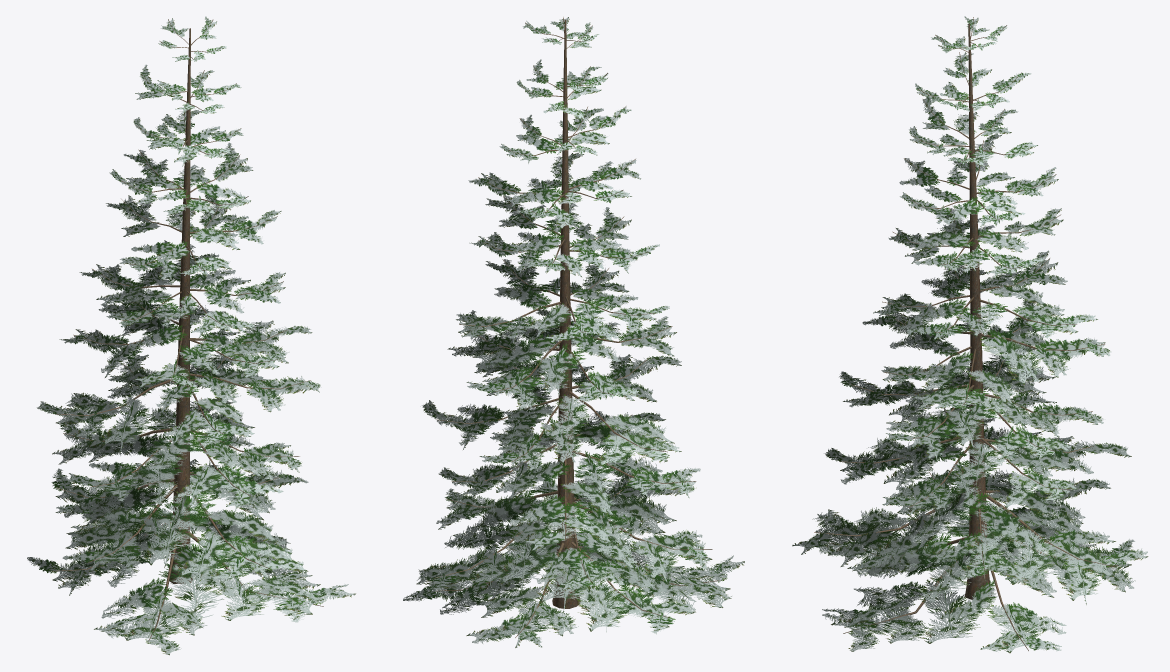
The model's file is tree_snowFir.glb.
The picture shows the model from 3 angles, left to right: view 1: azimuth 30°, elevation 25°; view 2: azimuth 150°, elevation 25°; view 3: azimuth 270°, elevation 25°; orthographic projection. The views are drawn at different scales.
Visible parts, largest first — view 1: plant; view 2: plant; view 3: plant.
Boxes of the visible parts, bbox=[...] form: plant: bbox=[27, 16, 355, 655]; plant: bbox=[403, 17, 744, 647]; plant: bbox=[792, 16, 1148, 653].
Bounding box in the file's own units: 7.01 × 14 × 8.23.
2 materials, 2 textured.
